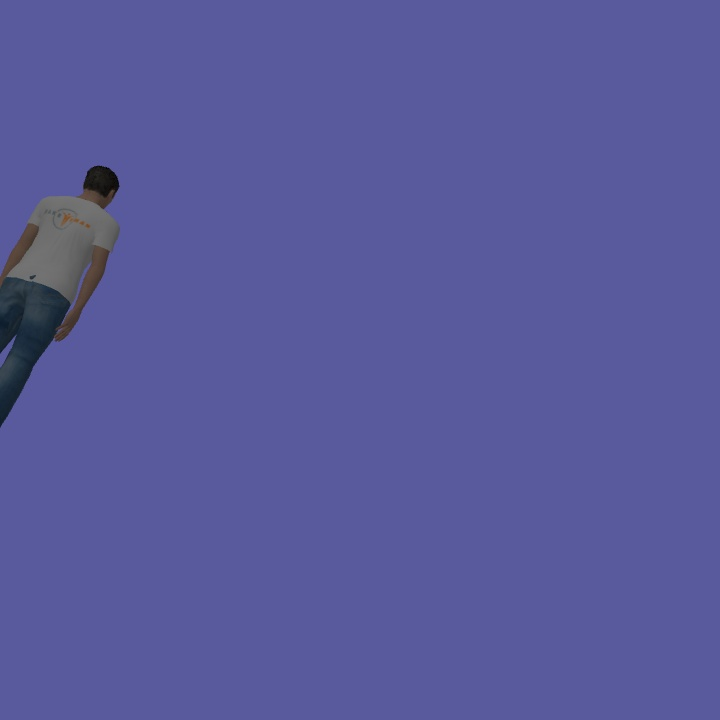victim: (3, 150, 134, 429)
